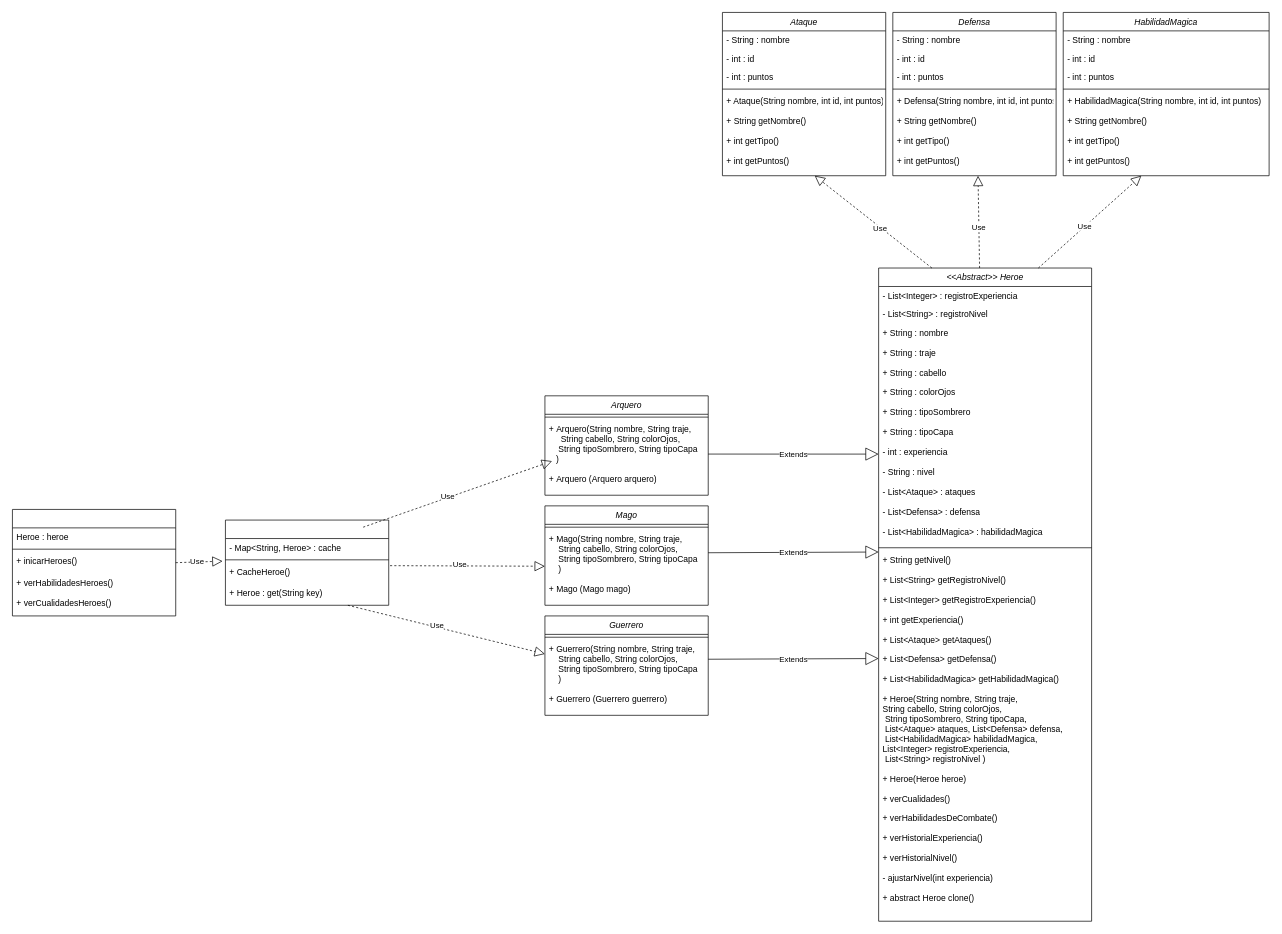
Some shapes in this 1282 by 934 pixel diagram are drawn without their labels. The box of each missing label's shape, as (x1, y1, x2, y2) in pixels:
CacheHeroes: (225, 519, 389, 605)
Main: (12, 509, 176, 616)
